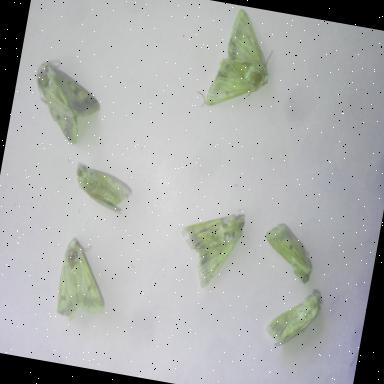abw: (197, 2, 282, 124), (20, 55, 112, 155), (169, 201, 249, 298), (50, 231, 120, 328), (252, 276, 330, 360), (254, 216, 326, 292), (62, 156, 141, 223)
